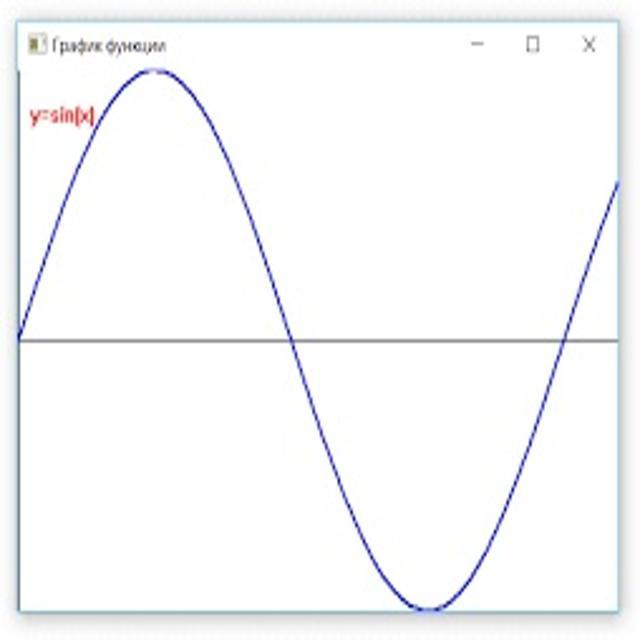line: (15, 63, 623, 617)
